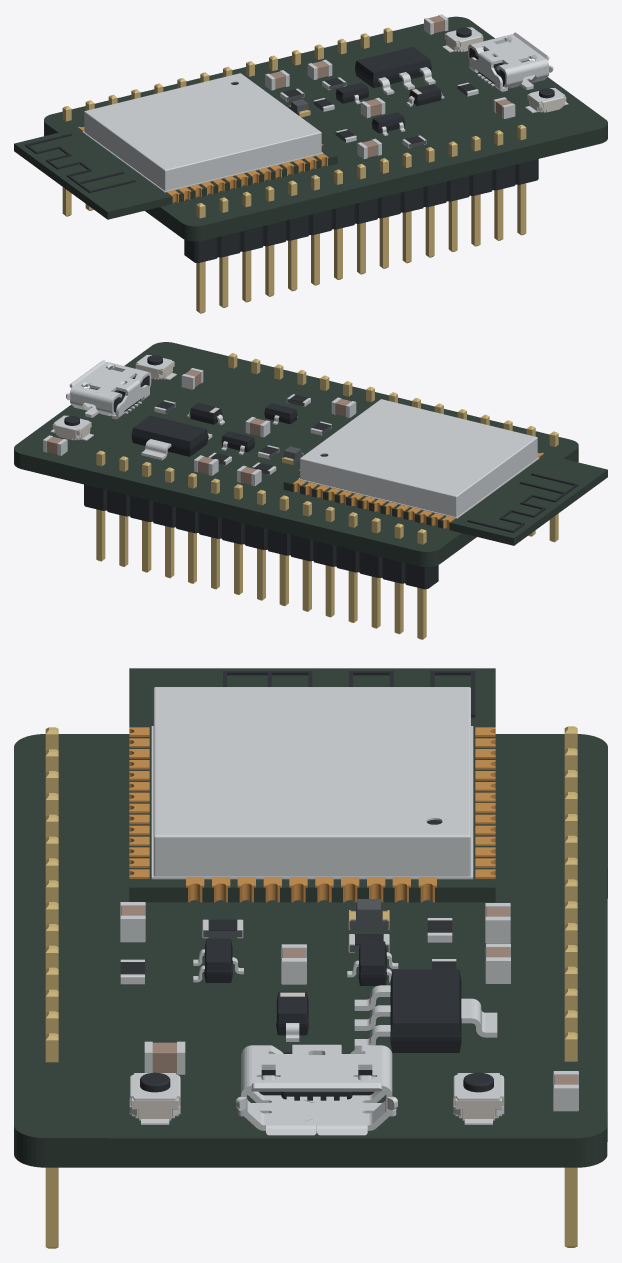
Rendered from active.digital-twin.glb.
The picture shows the model from 3 angles, top to bottom: view 1: azimuth 30°, elevation 25°; view 2: azimuth 150°, elevation 25°; view 3: azimuth 270°, elevation 25°; orthographic projection. The views are drawn at different scales.
Parts seen in each view (by area): view 1: Board shell, ref:U1, ref:J2, ref:J1, ref:U2, ref:J3, ref:SW1, ref:SW2, ref:D1, ref:Q1, ref:Q2, ref:C2 (+4 smaller); view 2: Board shell, ref:U1, ref:J3, ref:J1, ref:U2, ref:J2, ref:SW2, ref:SW1, ref:D1, ref:Q2, ref:Q1, ref:C6 (+4 smaller); view 3: Board shell, ref:U1, ref:J1, ref:U2, ref:J2, ref:J3, ref:SW1, ref:SW2, ref:Q1, ref:Q2, ref:D1, ref:C4 (+7 smaller).
Boxes of the visible parts, x1,y1,x2,y2 form: Board shell: (44,16,607,241); ref:U1: (14,73,337,219); ref:J2: (184,124,538,313); ref:J1: (468,32,553,91); ref:U2: (355,47,435,94); ref:J3: (62,27,392,216); ref:SW1: (525,88,568,113); ref:SW2: (442,27,483,52); ref:D1: (406,84,444,106); ref:Q1: (371,112,405,135); ref:Q2: (335,82,368,104); ref:C2: (307,59,332,80); Board shell: (14,342,578,566); ref:U1: (283,399,607,545); ref:J3: (84,450,438,639); ref:J1: (66,360,151,419); ref:U2: (131,415,212,460); ref:J2: (228,353,558,542); ref:SW2: (50,415,93,440); ref:SW1: (135,354,176,380); ref:D1: (187,402,224,425); ref:Q2: (221,431,254,454); ref:Q1: (264,403,297,424); ref:C6: (331,397,356,417); Board shell: (14,734,607,1167); ref:U1: (129,668,495,902); ref:J1: (235,1044,397,1135); ref:U2: (354,969,497,1052); ref:J2: (45,727,58,1248); ref:J3: (564,726,577,1247); ref:SW1: (129,1072,180,1124); ref:SW2: (453,1072,504,1124); ref:Q1: (193,938,243,982); ref:Q2: (347,941,398,985); ref:D1: (276,991,308,1041); ref:C4: (144,1041,185,1074).
Size of the model in its own units: 0.0529 by 0.0133 by 0.0292.
